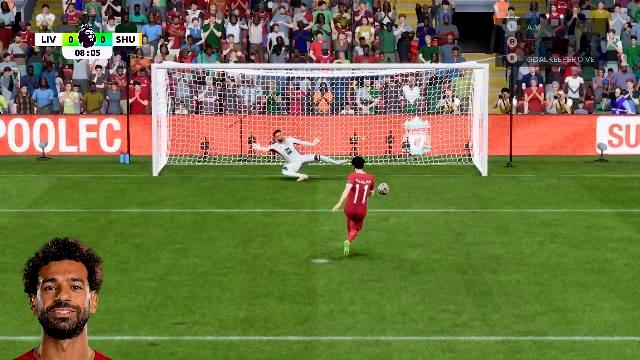bottom-left: (157, 124, 259, 176)
bottom-right: (369, 122, 483, 176)
center-down: (260, 124, 366, 172)
center-up: (260, 70, 366, 124)
circle: (378, 182, 390, 196)
goalkeeper: (252, 129, 350, 181)
player: (329, 154, 388, 254)
top-left: (157, 70, 259, 122)
top-right: (369, 70, 483, 122)
